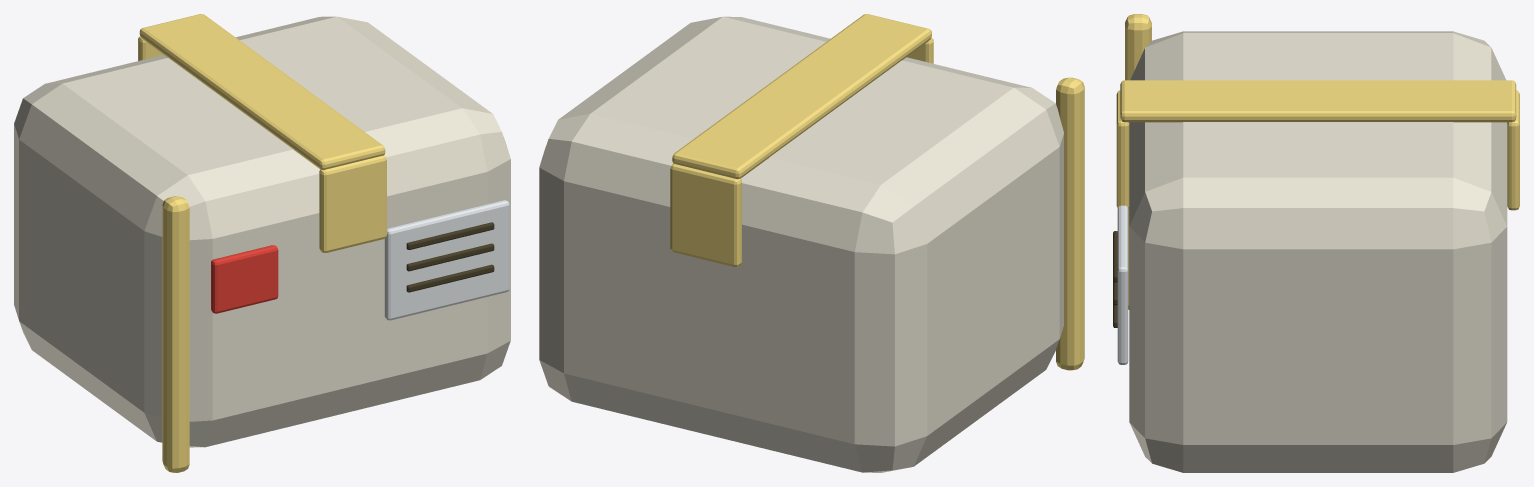
Rendered from decor_cargo_parcel.glb.
3 views of the same model, side by side, from view 1: azimuth 30°, elevation 25°; view 2: azimuth 150°, elevation 25°; view 3: azimuth 270°, elevation 25° (orthographic). The views are drawn at different scales.
Parts seen in each view (by area): view 1: DEC_CargoParcel__Body, DEC_CargoParcel__Tape_Top, DEC_CargoParcel__Label, DEC_CargoParcel__Corner_Wrap, DEC_CargoParcel__Tape_Front, DEC_CargoParcel__Stamp, DEC_CargoParcel__Label_Bar_2, DEC_CargoParcel__Label_Bar_1, DEC_CargoParcel__Label_Bar_3; view 2: DEC_CargoParcel__Body, DEC_CargoParcel__Tape_Top, DEC_CargoParcel__Corner_Wrap, DEC_CargoParcel__Tape_Back; view 3: DEC_CargoParcel__Body, DEC_CargoParcel__Tape_Top, DEC_CargoParcel__Label, DEC_CargoParcel__Corner_Wrap, DEC_CargoParcel__Tape_Front, DEC_CargoParcel__Tape_Back.
Part boxes in pixels (x1,y1,x2,y2): DEC_CargoParcel__Body: (14,16,510,447); DEC_CargoParcel__Tape_Top: (139,14,385,169); DEC_CargoParcel__Label: (384,200,509,320); DEC_CargoParcel__Corner_Wrap: (162,196,189,472); DEC_CargoParcel__Tape_Front: (319,155,386,252); DEC_CargoParcel__Stamp: (211,245,278,313); DEC_CargoParcel__Label_Bar_2: (406,243,494,271); DEC_CargoParcel__Label_Bar_1: (406,222,494,249); DEC_CargoParcel__Label_Bar_3: (406,264,494,292); DEC_CargoParcel__Body: (539,16,1063,472); DEC_CargoParcel__Tape_Top: (672,14,931,179); DEC_CargoParcel__Corner_Wrap: (1056,77,1084,370); DEC_CargoParcel__Tape_Back: (670,163,741,266); DEC_CargoParcel__Body: (1129,31,1507,472); DEC_CargoParcel__Tape_Top: (1120,80,1516,122); DEC_CargoParcel__Label: (1117,205,1128,364); DEC_CargoParcel__Corner_Wrap: (1125,14,1151,309); DEC_CargoParcel__Tape_Front: (1116,90,1129,208); DEC_CargoParcel__Tape_Back: (1507,90,1519,210).
Bounding box in the file's own units: 0.5 × 0.372 × 0.452.
